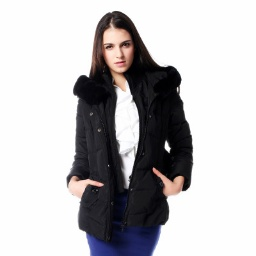face: (84, 7, 161, 103)
